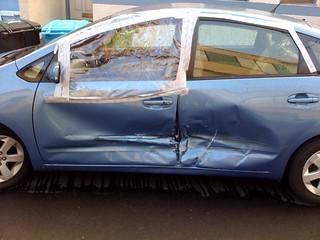doorouter-dent: (38, 78, 182, 164), (190, 60, 276, 169)
